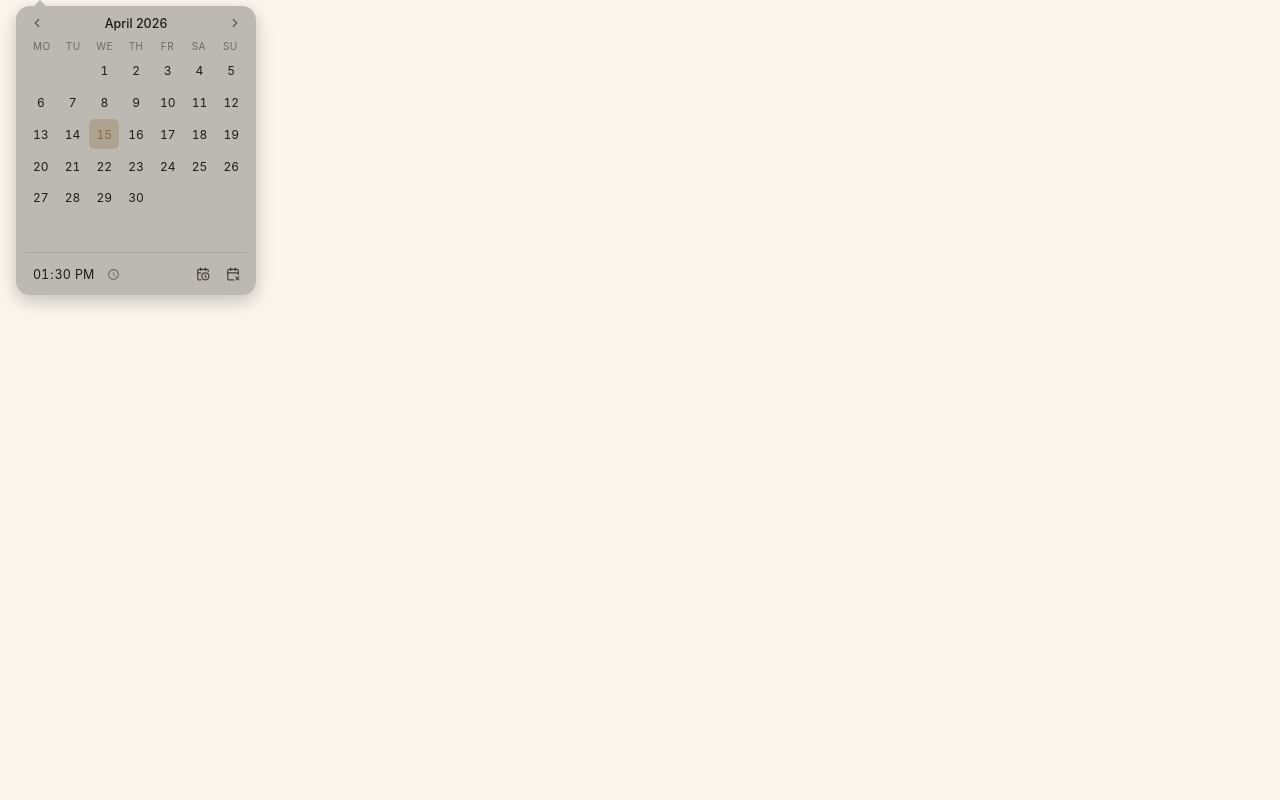
Test case: DateTimeBubble — dirty indicators › changing only the date adds .dot on Update but leaves the time input unflagged
What coordinates should you click on to do the following:
click the button with class "cal-cell" showing "20"
I would click on:
 (41, 166)
Its box is x1=26 y1=151 x2=56 y2=181.
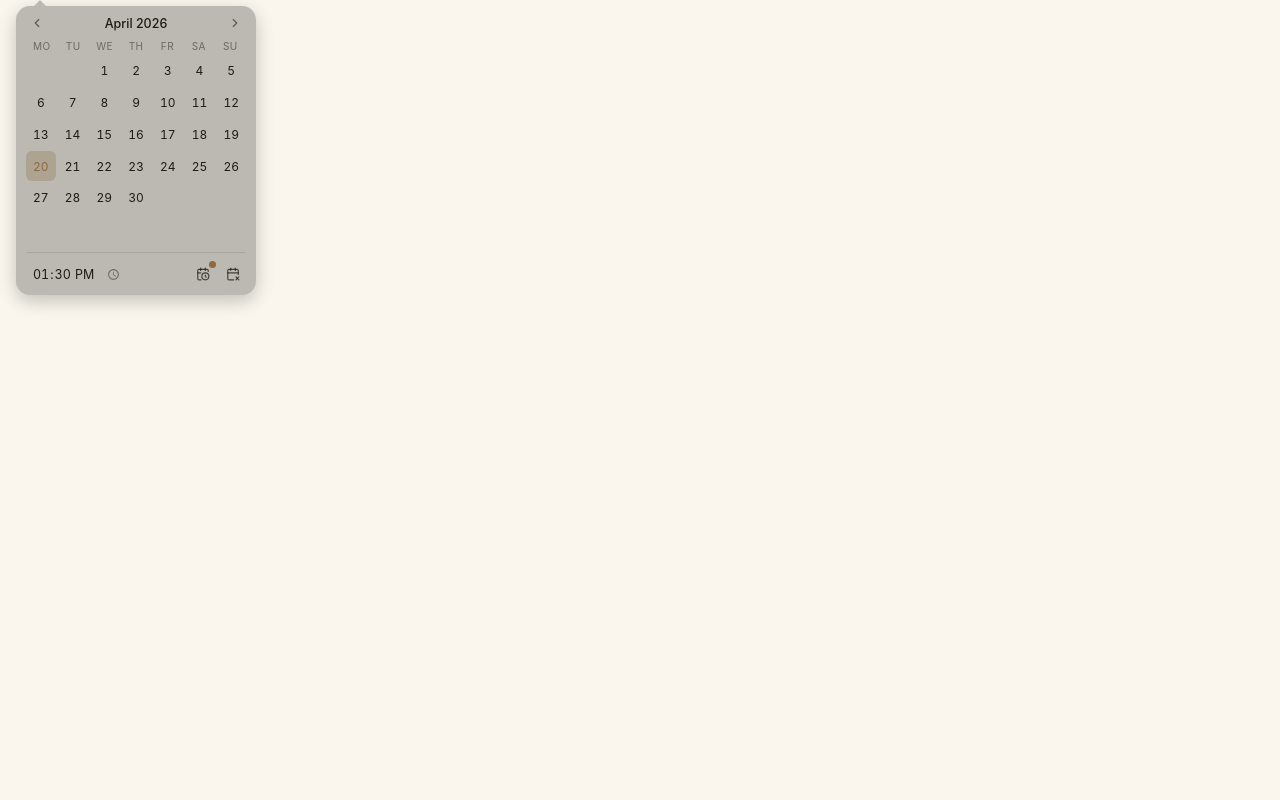
Now the element with class "dot" is shown, box x1=209 y1=261 x2=216 y2=268
